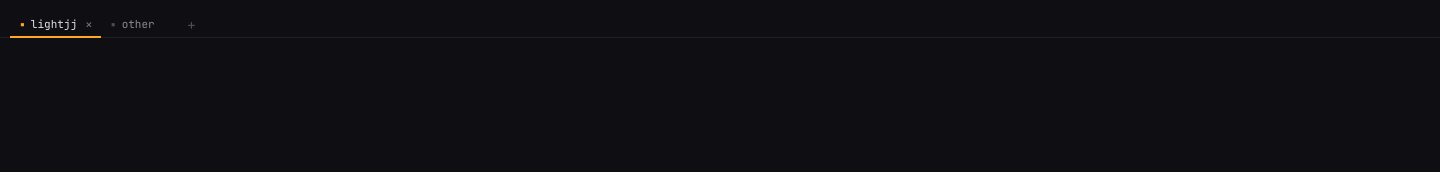
Test: TabBar › + button reveals path input; Enter submits, Escape cancels
Click the button with class "tab-new": (192, 24) left=178, top=12, right=204, bottom=37
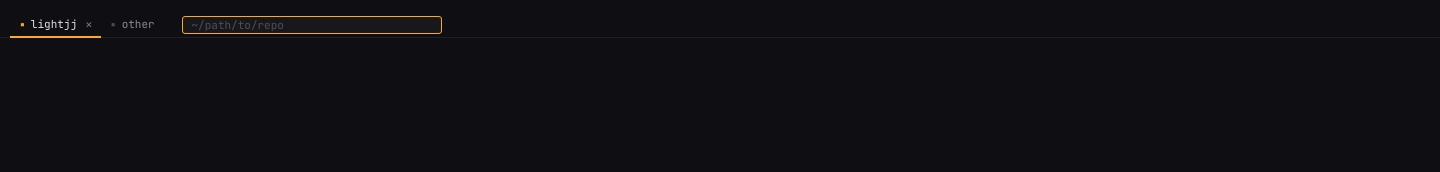
Check: the field with class "tab-path-input" is shown
In the field with class "tab-path-input": (312, 24) left=182, top=16, right=442, bottom=34, type "  ~/repo  "
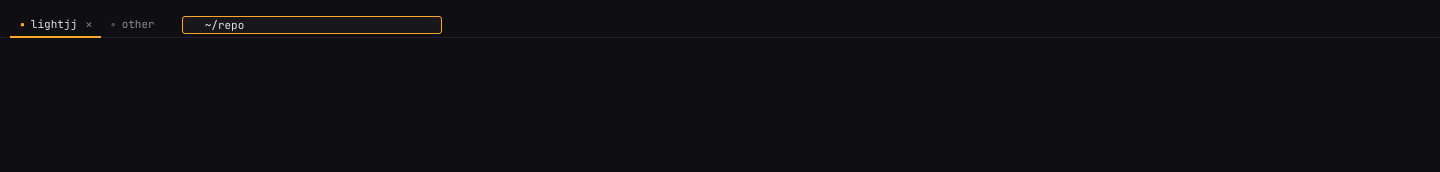
Press Enter in the field with class "tab-path-input", box left=182, top=16, right=442, bottom=34
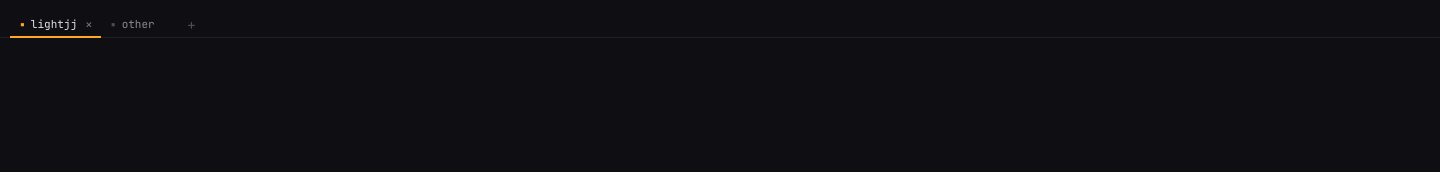
Note: Escape path
Click the button with class "tab-new": (192, 24) left=178, top=12, right=204, bottom=37
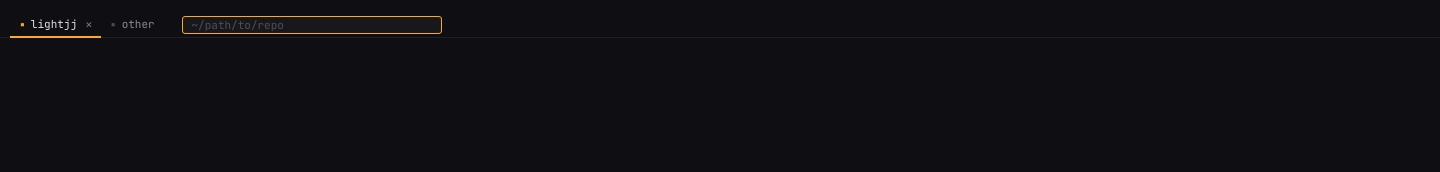
Press Escape in the field with class "tab-path-input", box left=182, top=16, right=442, bottom=34
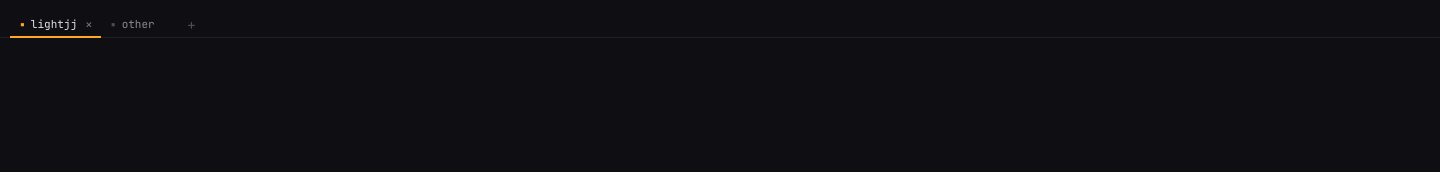
Check: the field with class "tab-path-input" is gone
